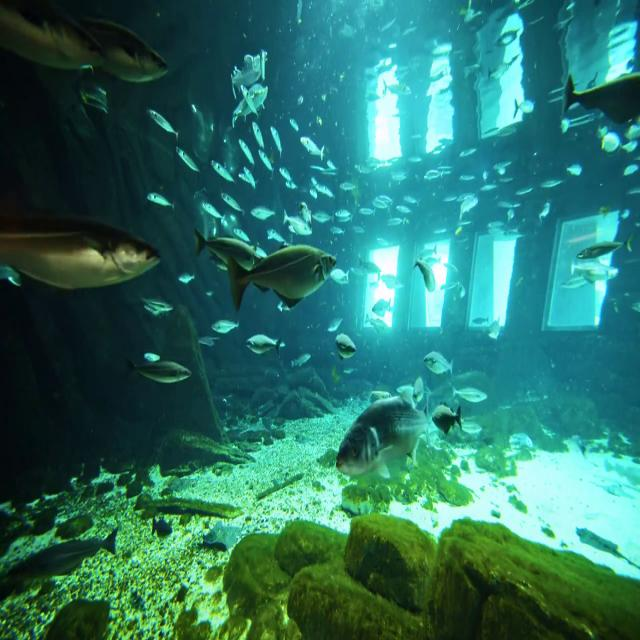fish: (0, 0, 171, 83), (0, 216, 158, 292), (338, 398, 448, 478), (228, 243, 336, 314), (0, 0, 100, 72), (194, 229, 262, 270), (124, 354, 194, 389), (428, 405, 466, 435)
